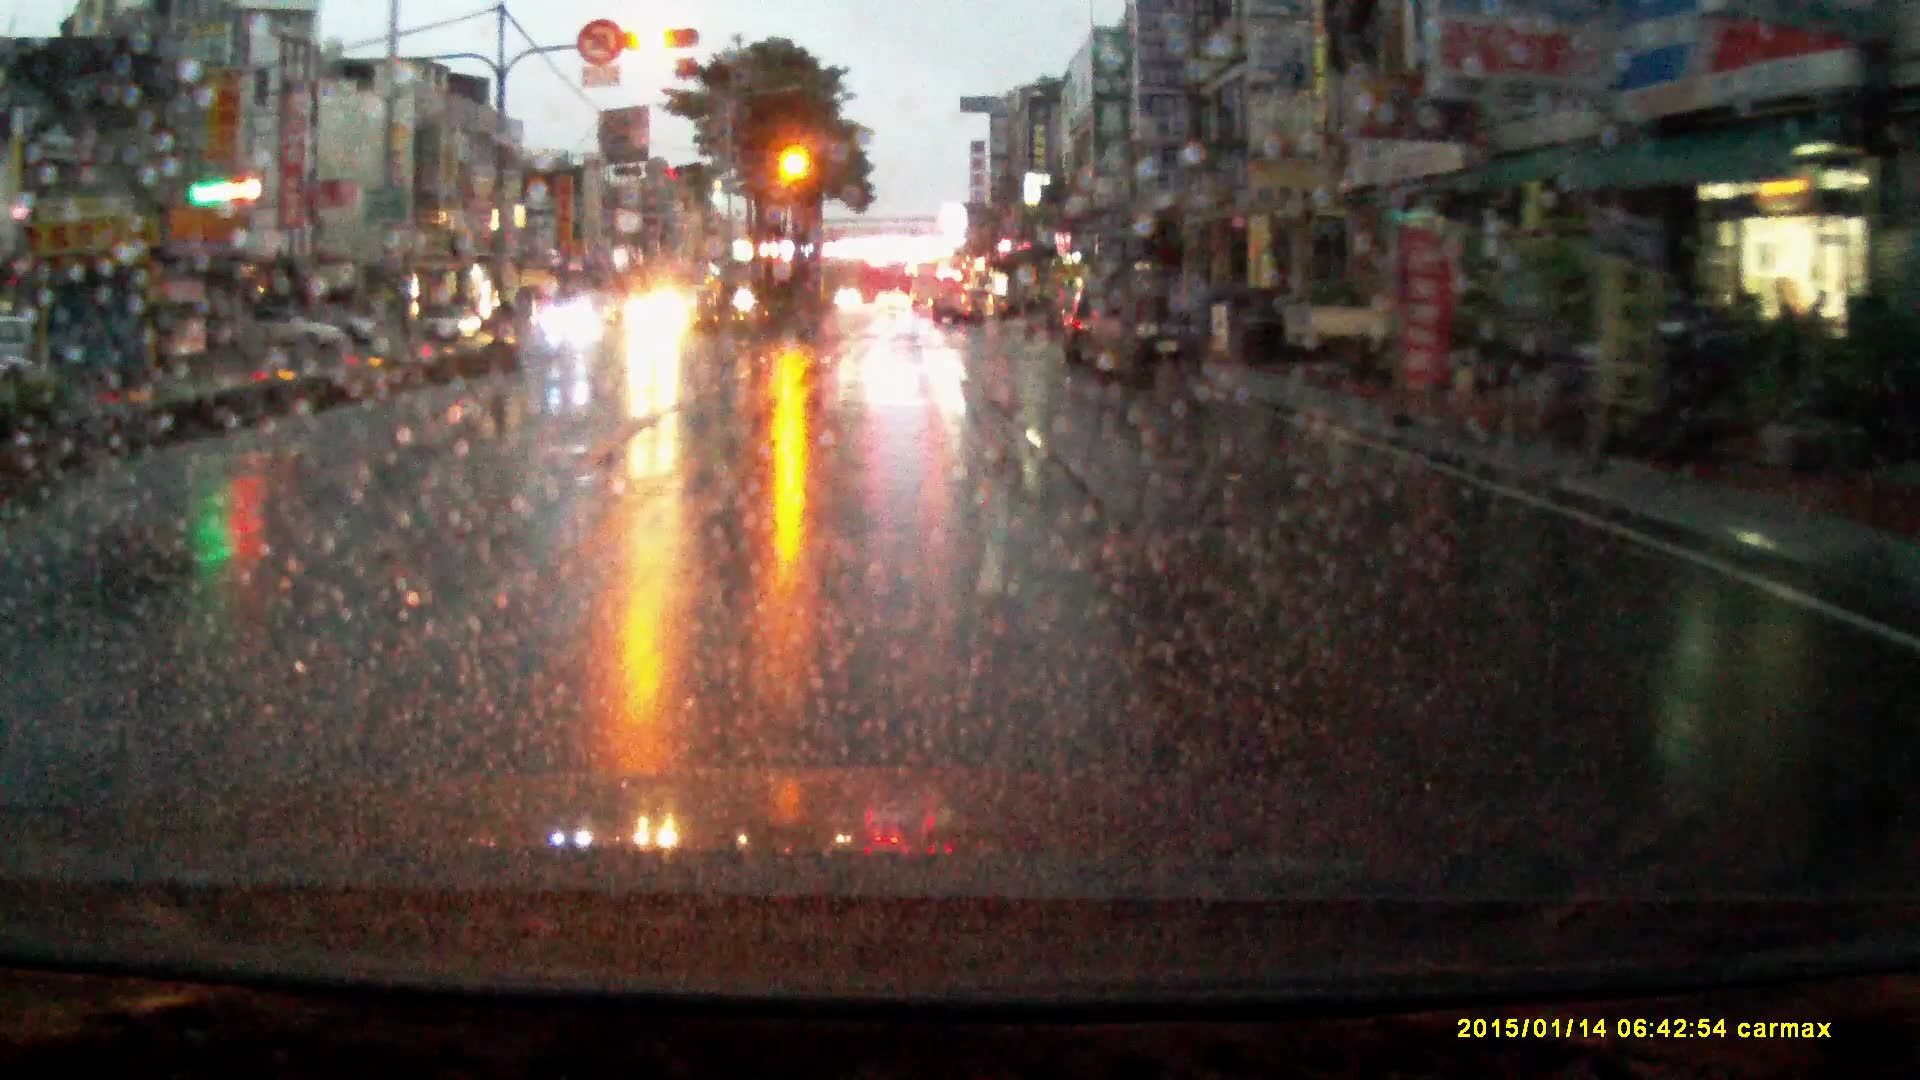vehicle: (1087, 273, 1217, 392), (1283, 310, 1425, 367), (228, 313, 339, 357), (618, 291, 694, 345), (1063, 284, 1100, 372), (316, 315, 392, 353), (934, 286, 997, 330), (421, 305, 483, 345), (545, 305, 605, 344), (911, 266, 944, 313), (876, 295, 913, 319)
